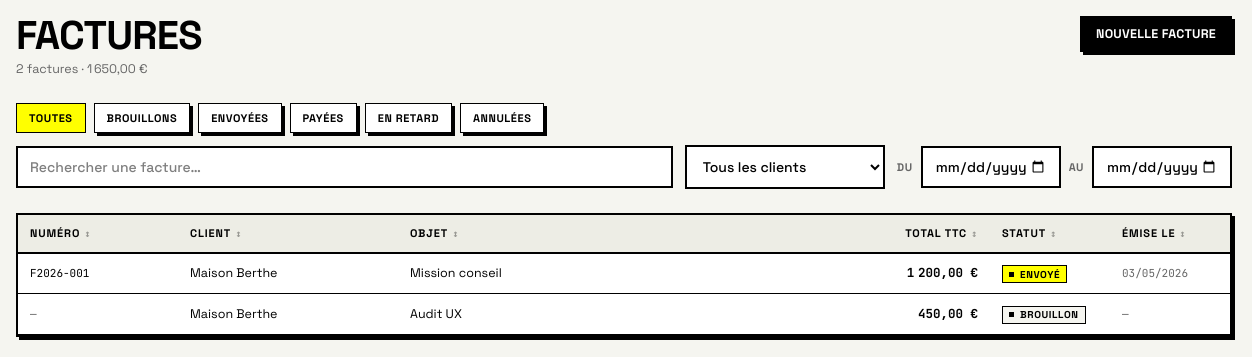
Test: InvoicesListRoute › filtre par statut via les chips
The width and height of the screenshot is (1252, 357).
expect the text "Mission conseil" is shown: met, box [410, 265, 502, 281]
Step 1. Click the button with test id "invoice-status-filter-draft" → point(142, 118), box [94, 103, 190, 133]
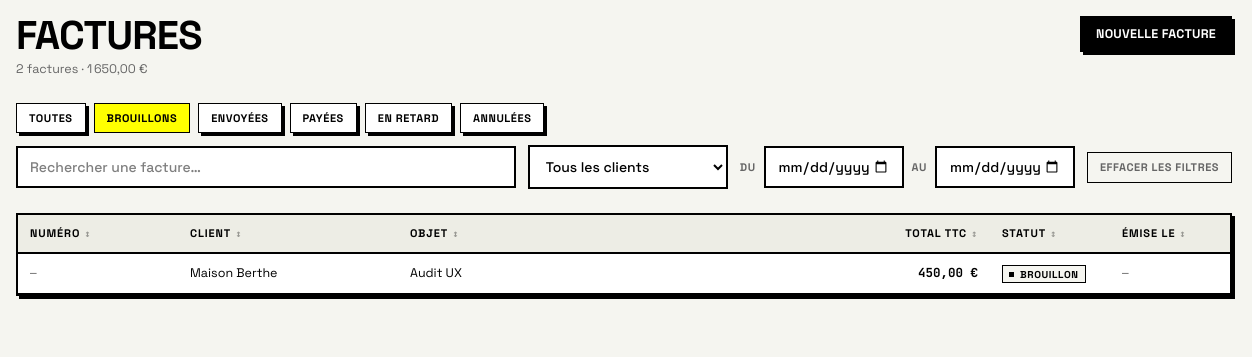
expect the text "Audit UX" is shown: met, box [410, 265, 462, 281]
expect the text "Mission conseil" is gone: met
